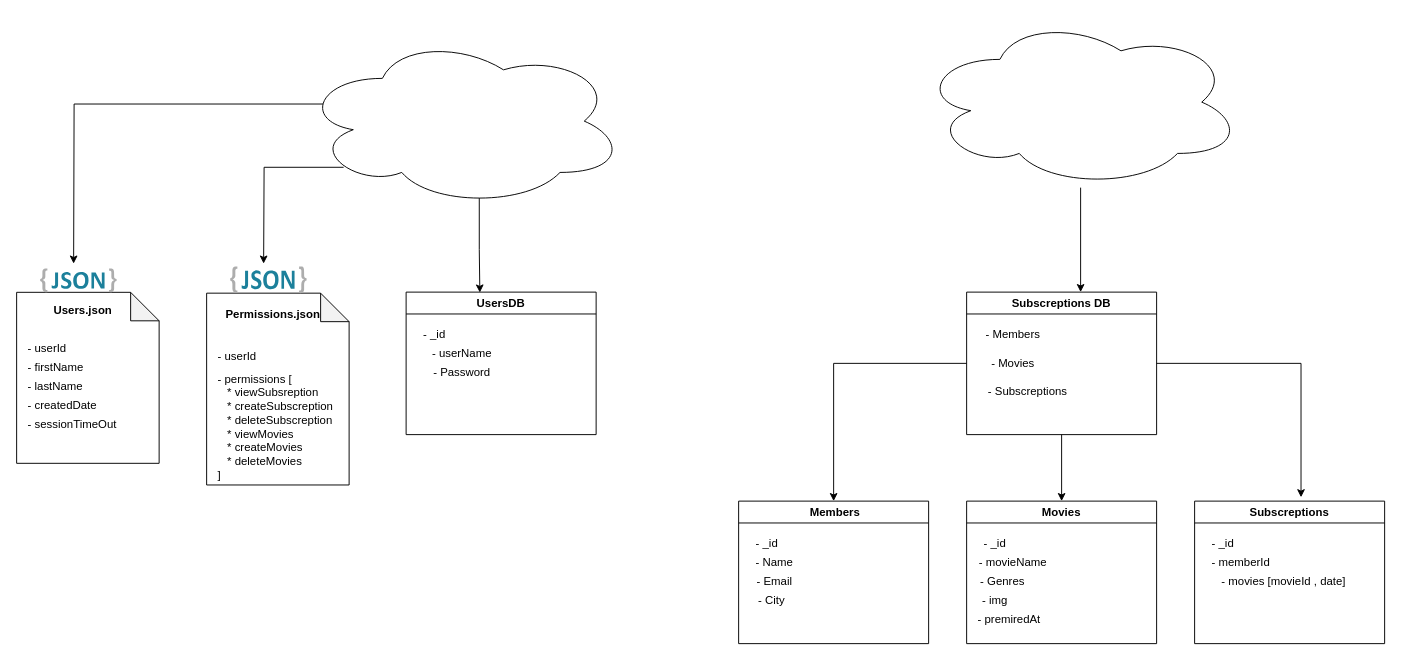
Some shapes in this 1401 by 660 pixel diagram are drawn without their labels. The centre of each missing label's shape, as x and y in pixels:
Cinema WS: point (463, 121)
Subscreptions WS: point (1080, 102)
